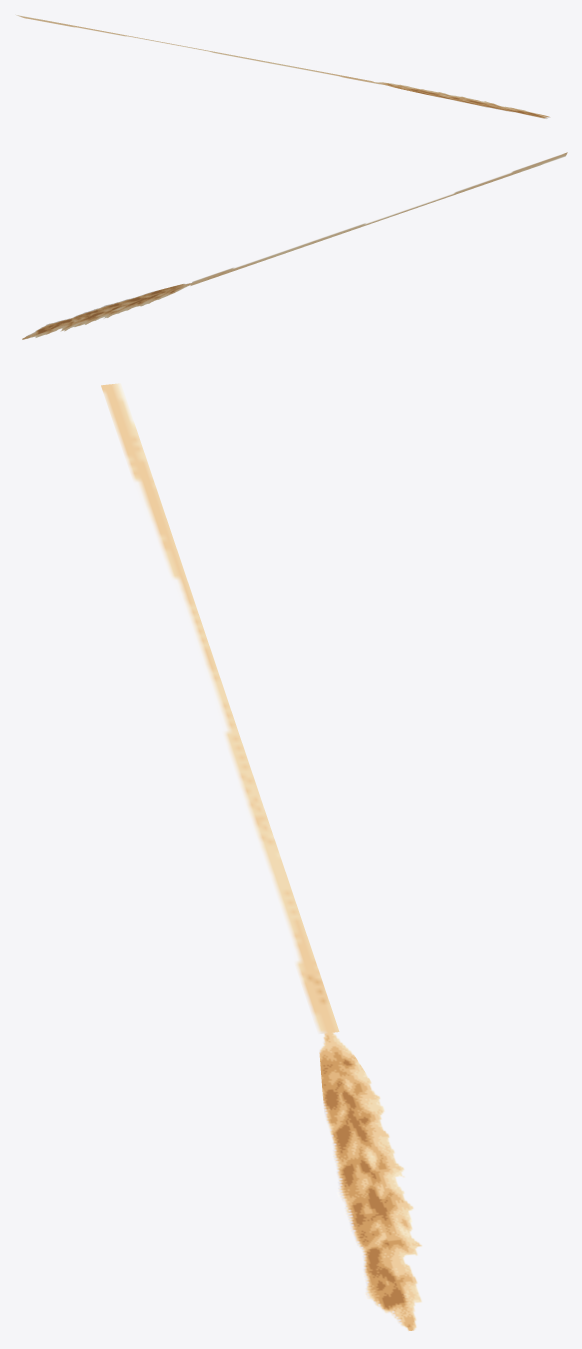
Rendered from Straw.glb.
3 views of the same model, one above another, from view 1: azimuth 30°, elevation 25°; view 2: azimuth 150°, elevation 25°; view 3: azimuth 270°, elevation 25° (orthographic). The views are drawn at different scales.
Parts seen in each view (by area): view 1: Straw; view 2: Straw; view 3: Straw.
Part boxes in pixels (x1,y1,x2,y2): Straw: (15,14,550,118); Straw: (22,152,567,339); Straw: (101,383,422,1331).
Bounding box in the file's own units: 0.9056 × 0.4459 × 0.3137.
1 material, 1 textured.
